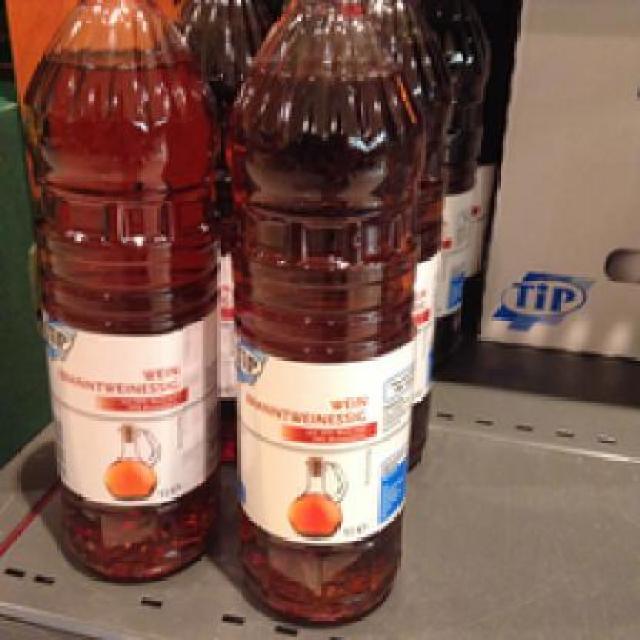Vinegar: (220, 0, 426, 626), (20, 0, 229, 583)
